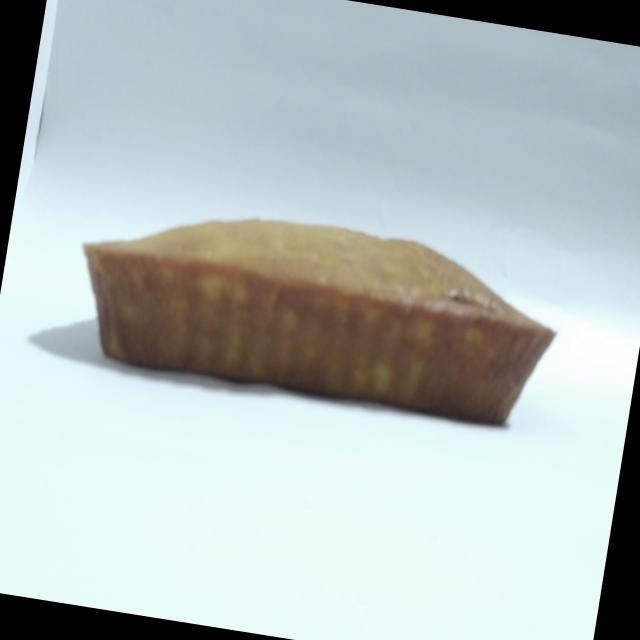Sopa: (52, 168, 580, 466)
